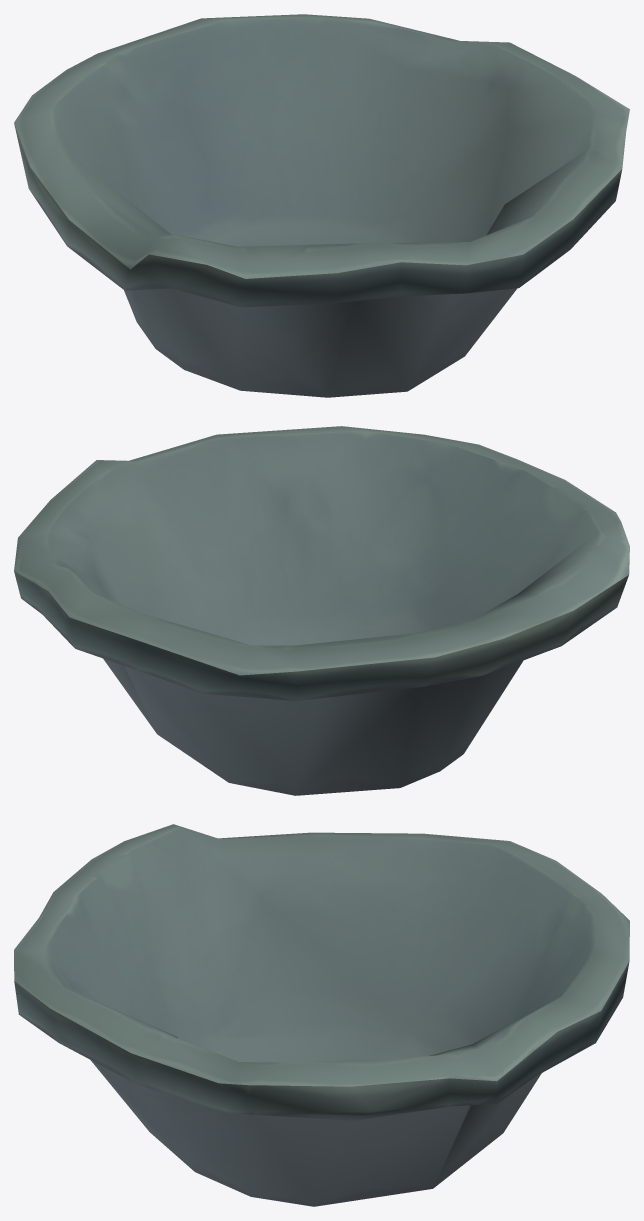
File: SM_FW01_CampProp_Bowl_01.fbx
3 renders of one model, top to bottom at view 1: azimuth 30°, elevation 25°; view 2: azimuth 150°, elevation 25°; view 3: azimuth 270°, elevation 25°, orthographic. The views are drawn at different scales.
Parts seen in each view (by area): view 1: SM_FW01_CampProp_Bowl_01_LOD0; view 2: SM_FW01_CampProp_Bowl_01_LOD0; view 3: SM_FW01_CampProp_Bowl_01_LOD0.
Boxes of the visible parts, bbox=[...] form: SM_FW01_CampProp_Bowl_01_LOD0: bbox=[14, 14, 629, 397]; SM_FW01_CampProp_Bowl_01_LOD0: bbox=[14, 426, 629, 795]; SM_FW01_CampProp_Bowl_01_LOD0: bbox=[14, 824, 629, 1206].
Size of what is drawn, in the model's own units: 0.6745 by 0.2462 by 0.6824.
